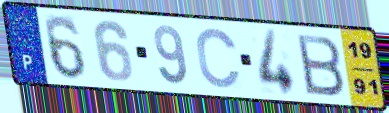4: (256, 27, 298, 98)
6: (42, 13, 88, 82), (91, 18, 135, 83)
9: (152, 23, 189, 87)
B: (294, 32, 347, 98)
C: (194, 26, 244, 91)
